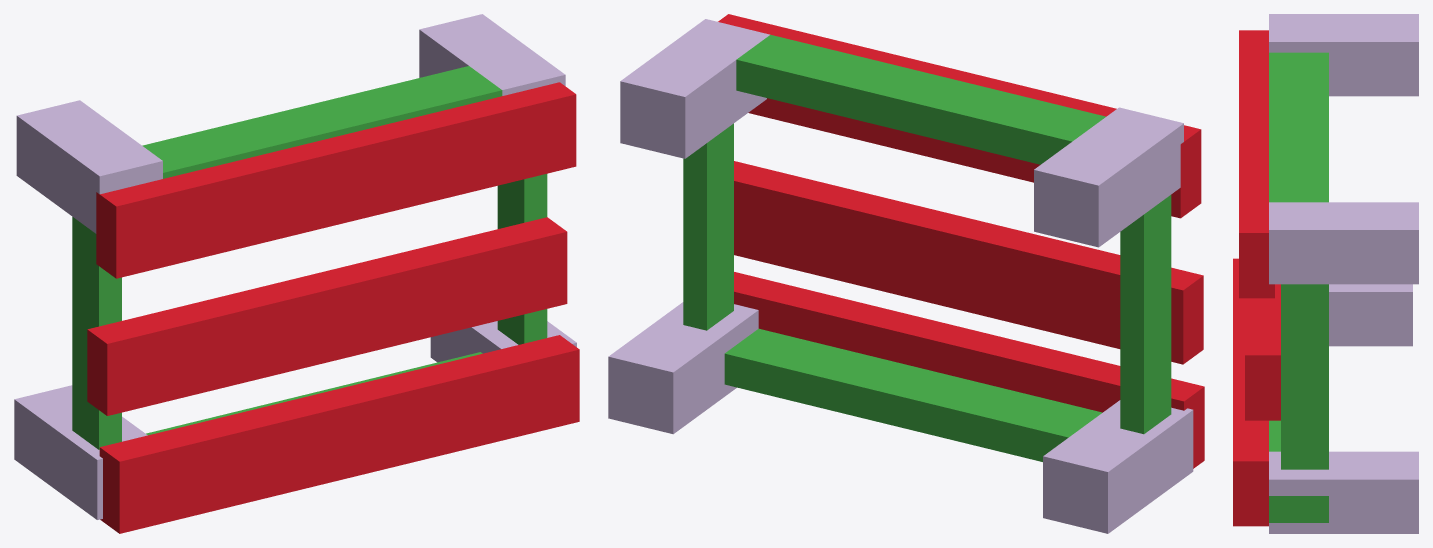
Rendered from tinker.obj.
3 views of the same model, side by side, from view 1: azimuth 30°, elevation 25°; view 2: azimuth 150°, elevation 25°; view 3: azimuth 270°, elevation 25° (orthographic). The views are drawn at different scales.
Visible parts, largest first — view 1: group_0_15277357, group_0_13877221, group_0_4634441; view 2: group_0_15277357, group_0_4634441, group_0_13877221; view 3: group_0_13877221, group_0_4634441, group_0_15277357.
Part boxes in pixels (bbox=[...]): group_0_15277357: bbox=[87, 82, 579, 533]; group_0_13877221: bbox=[14, 14, 576, 519]; group_0_4634441: bbox=[72, 66, 547, 449]; group_0_15277357: bbox=[718, 14, 1204, 468]; group_0_4634441: bbox=[683, 34, 1171, 461]; group_0_13877221: bbox=[608, 19, 1193, 533]; group_0_13877221: bbox=[1269, 14, 1418, 533]; group_0_4634441: bbox=[1269, 52, 1328, 522]; group_0_15277357: bbox=[1233, 30, 1280, 526].
Size of the model in its own units: 84 by 57 by 31.
